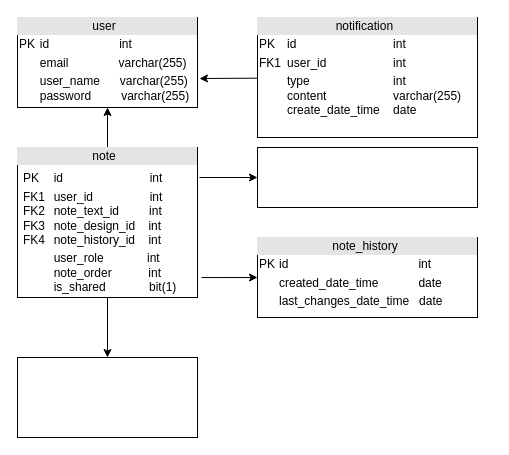
The diagram is 509 pixels wide and 455 high, and some of its shapes have lost their labels. The centre of each missing label's shape, as x and y in pixels:
note_design PK id int color varchar(255): (367,177)
note_text PK id int email varchar(255) text varchar(255): (107,397)
